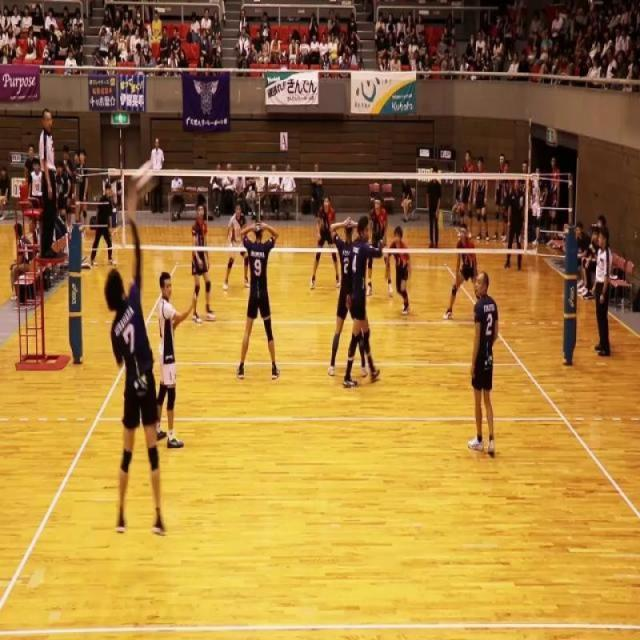volleyball: (130, 158, 158, 198)
